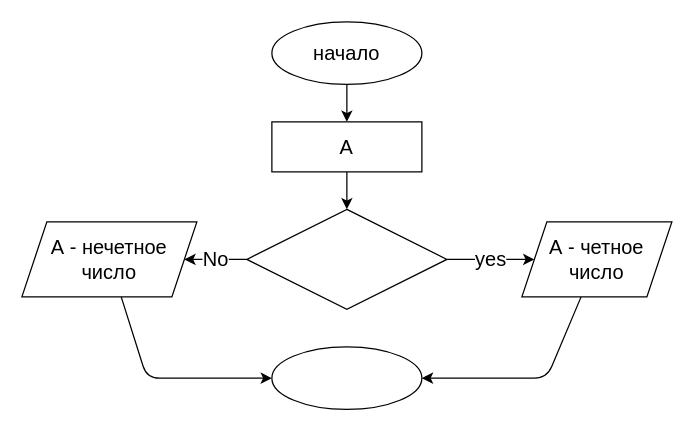
Some shapes in this 694 by 431 pixel diagram are drawn without their labels. Here are the shapes that lost their labels. From the top down, the centre of each, then its label:
At point 346,258: "A / 2 без остатка".
At point 346,377: "конец".
